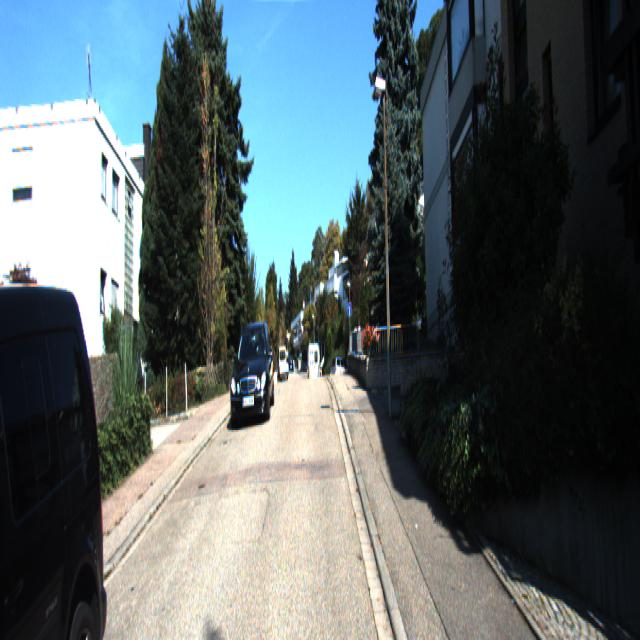Car: (0, 275, 116, 638), (228, 318, 276, 428), (307, 343, 321, 393)
